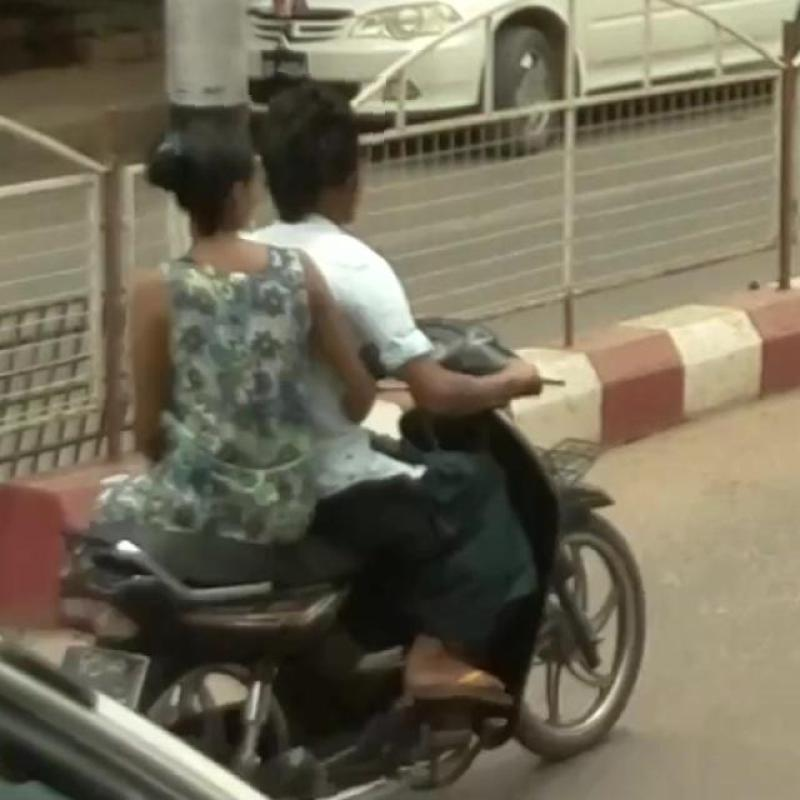nohelmet: (147, 92, 269, 240), (274, 73, 386, 212)
